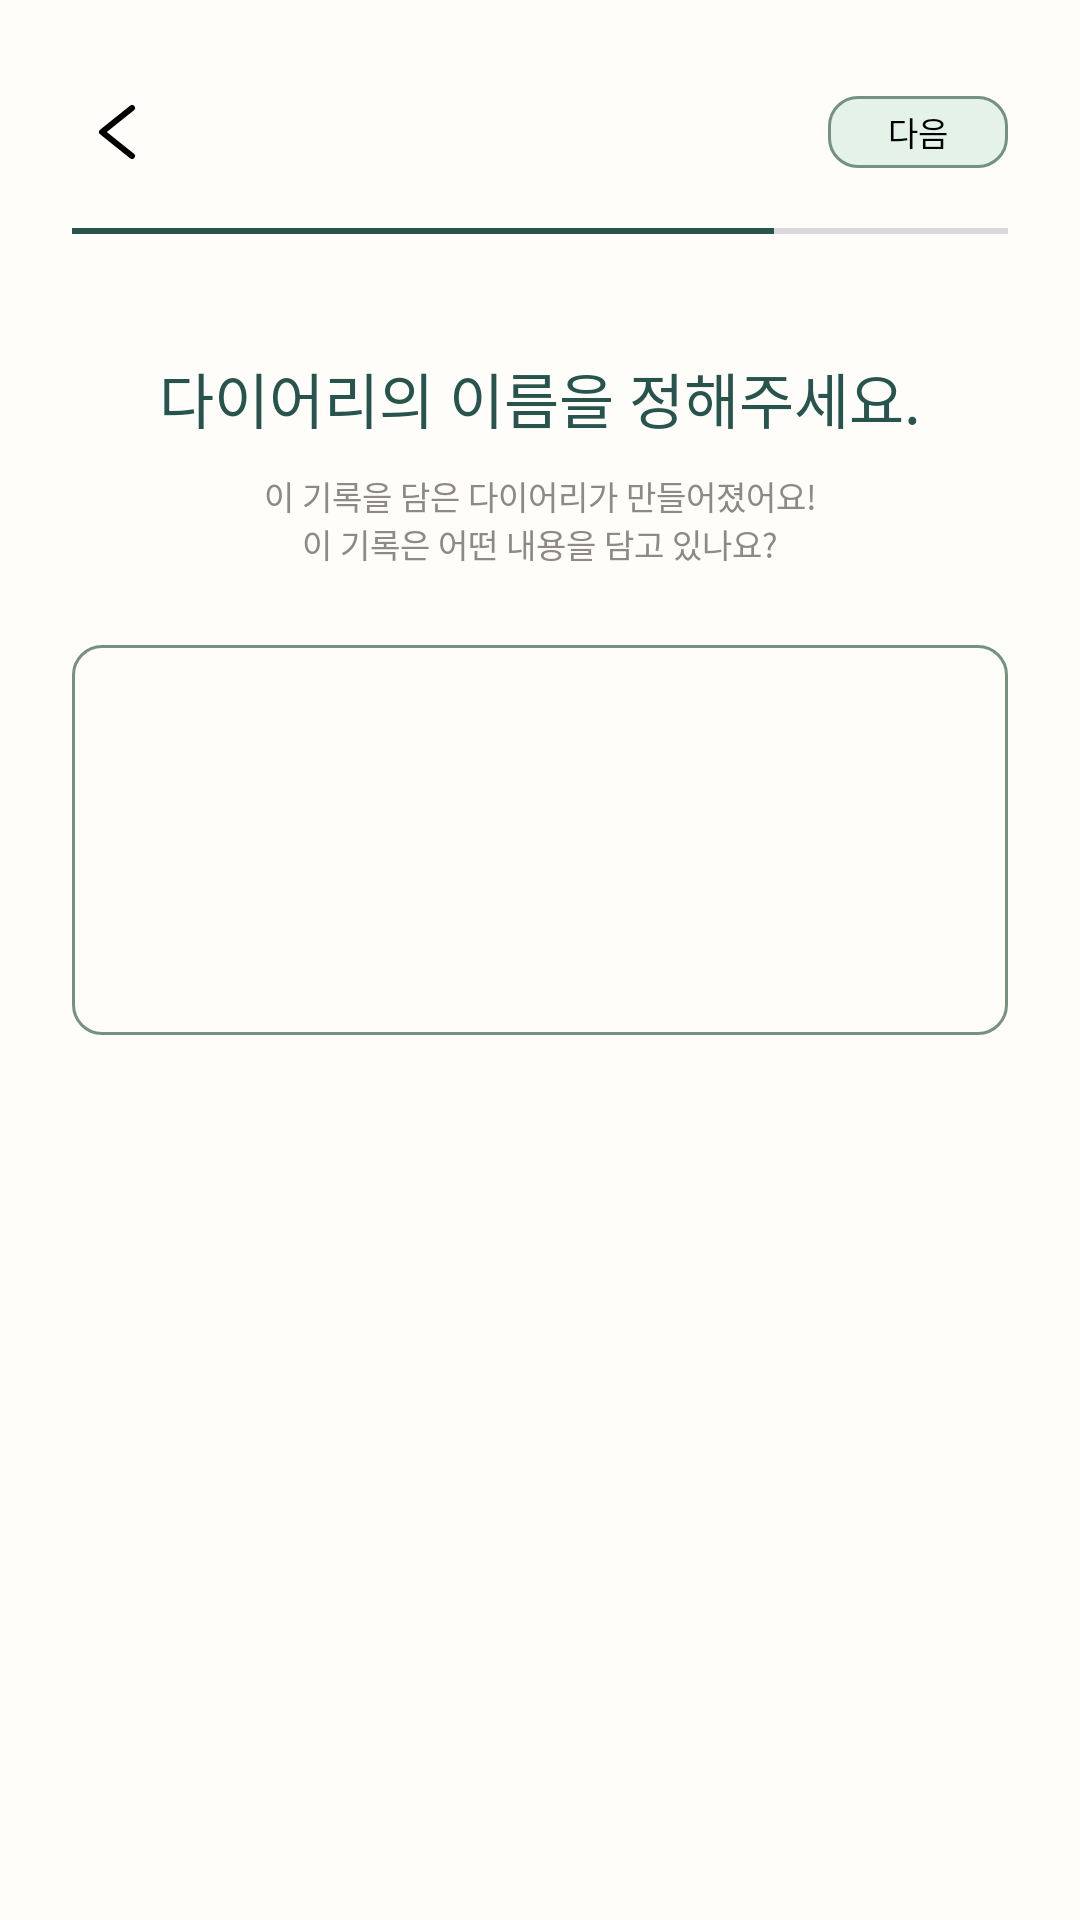

Point at icon controls on the screen. Image size 1080 × 1920, points as (x=x, y=y).
back: (x=117, y=132)
